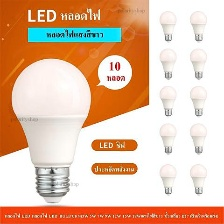light_bulb: (8, 57, 93, 204), (186, 7, 209, 43), (187, 162, 210, 197), (157, 83, 178, 119), (157, 46, 178, 79), (188, 45, 207, 81), (188, 121, 208, 155), (188, 85, 208, 118), (158, 162, 177, 196), (157, 9, 177, 41), (158, 122, 177, 154)
